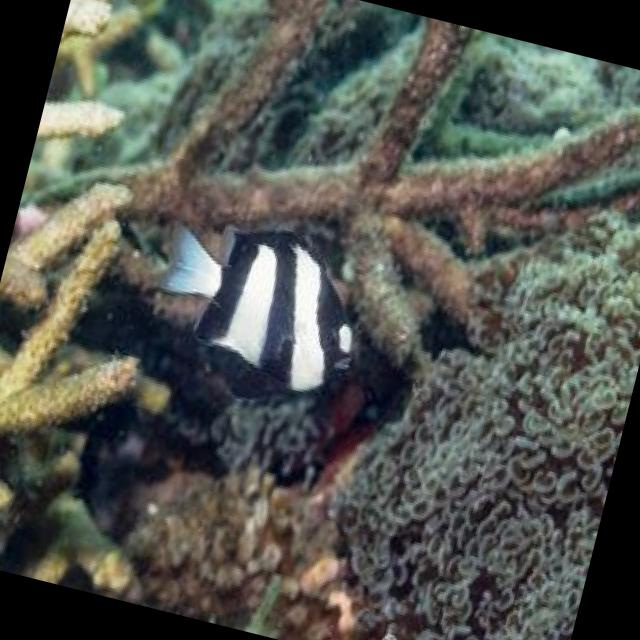ThreeStripedDamselfish: (160, 226, 358, 407)
